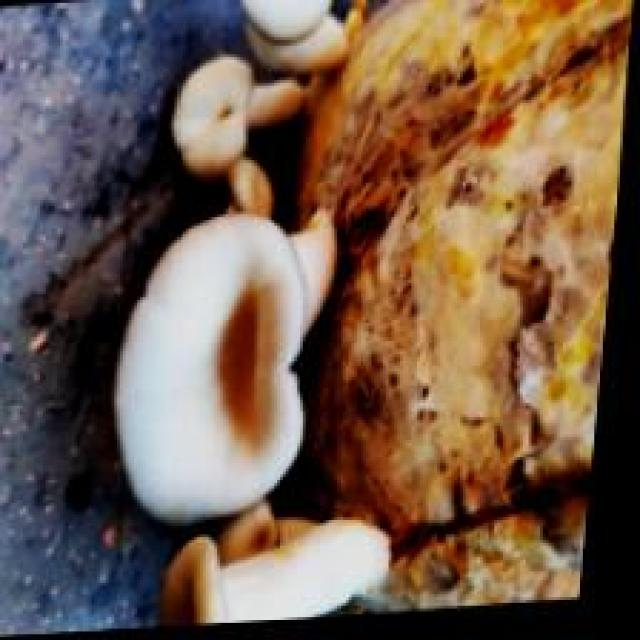field-mushroom: (112, 206, 337, 523)
